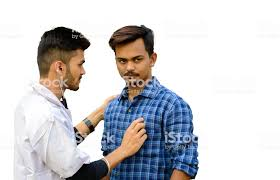Indian_Male: (113, 39, 147, 92)
